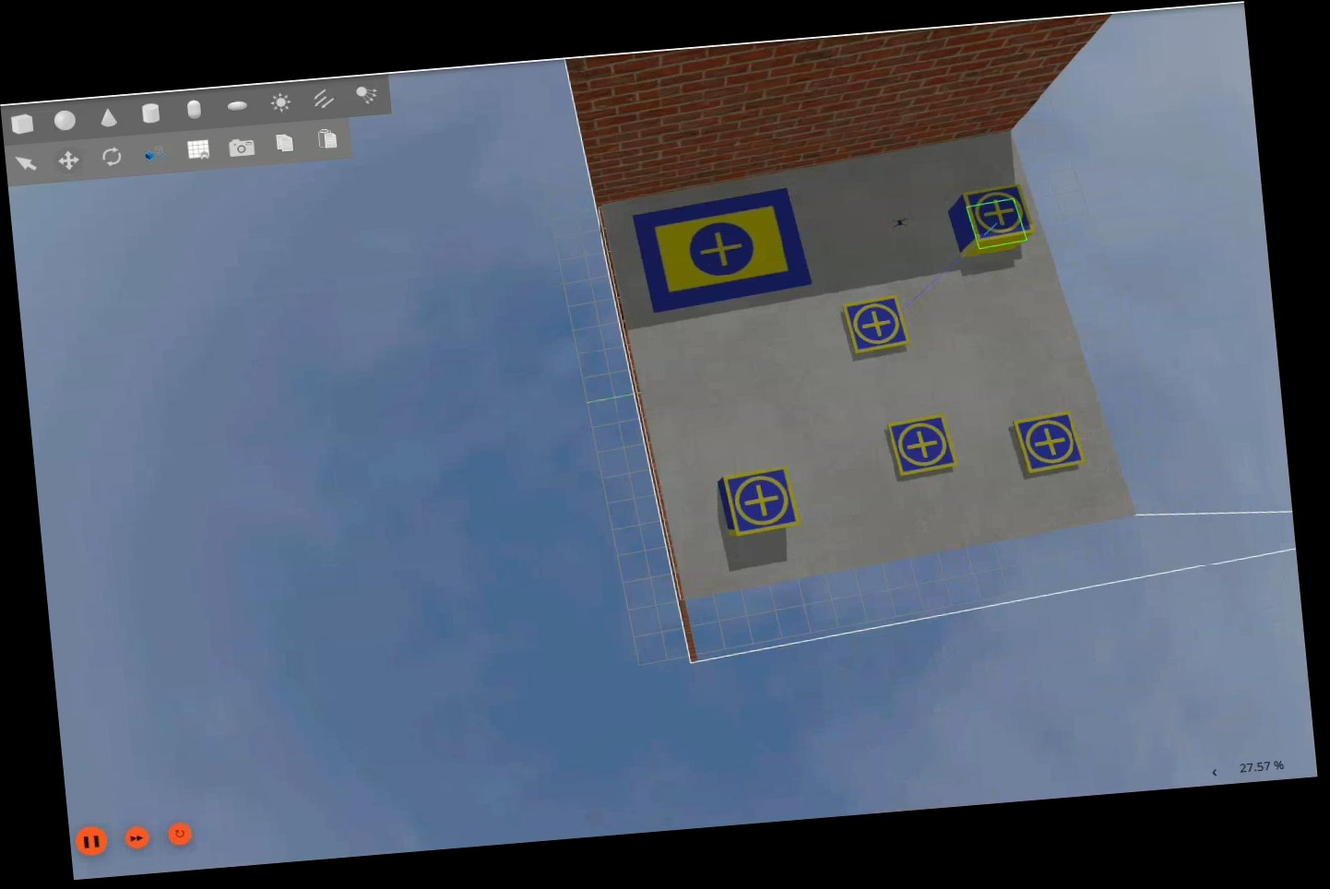large_base: (631, 184, 821, 316)
small_base: (719, 463, 803, 539), (959, 181, 1039, 247), (1013, 409, 1086, 478), (842, 292, 916, 359), (887, 412, 958, 480)
